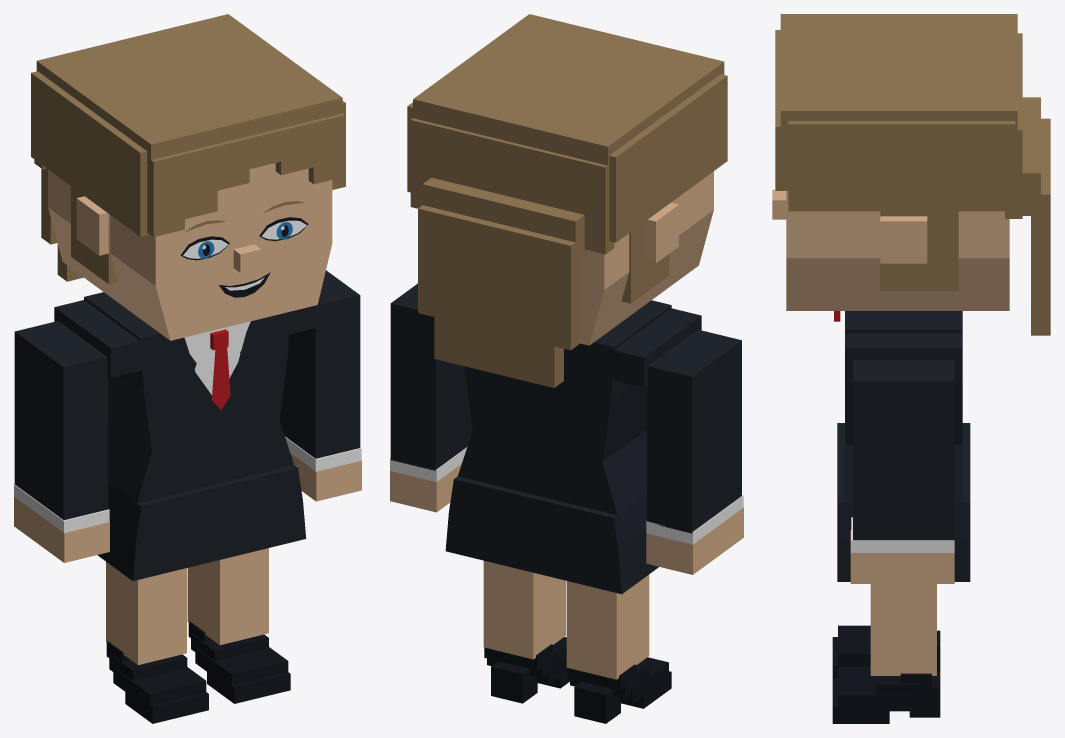
Rendered from female_long.glb.
The picture shows the model from 3 angles, left to right: view 1: azimuth 30°, elevation 25°; view 2: azimuth 150°, elevation 25°; view 3: azimuth 270°, elevation 25°; orthographic projection. The views are drawn at different scales.
Visible parts, largest first — view 1: char_hair_visual, char_torso_visual, char_head_visual, char_arm_negx_visual, char_arm_posx_visual, char_leg_negx_visual, char_leg_posx_visual, char_hand_negx_visual, char_hand_posx_visual, char_eye_posx_visual, char_eye_negx_visual; view 2: char_hair_visual, char_torso_visual, char_arm_negx_visual, char_arm_posx_visual, char_leg_negx_visual, char_leg_posx_visual, char_head_visual, char_hand_negx_visual, char_hand_posx_visual; view 3: char_hair_visual, char_arm_posx_visual, char_head_visual, char_torso_visual, char_leg_posx_visual, char_hand_posx_visual, char_leg_negx_visual.
Part boxes in pixels (x1,y1,x2,y2): char_hair_visual: (31, 14, 345, 284); char_torso_visual: (54, 292, 320, 580); char_head_visual: (48, 163, 332, 340); char_arm_negx_visual: (14, 321, 109, 532); char_arm_posx_visual: (279, 270, 361, 471); char_leg_negx_visual: (106, 562, 208, 723); char_leg_posx_visual: (187, 548, 290, 703); char_hand_negx_visual: (14, 497, 109, 562); char_hand_posx_visual: (290, 453, 361, 501); char_eye_posx_visual: (259, 217, 308, 241); char_eye_negx_visual: (180, 236, 229, 260); char_hair_visual: (407, 14, 727, 387); char_torso_visual: (431, 300, 701, 594); char_arm_negx_visual: (646, 329, 743, 544); char_arm_posx_visual: (390, 283, 472, 481); char_leg_negx_visual: (566, 574, 671, 723); char_leg_posx_visual: (483, 560, 569, 703); char_head_visual: (580, 171, 713, 345); char_hand_negx_visual: (646, 507, 743, 574); char_hand_posx_visual: (390, 464, 461, 512); char_hair_visual: (775, 14, 1050, 335); char_arm_posx_visual: (851, 359, 954, 552); char_head_visual: (772, 189, 1009, 310); char_torso_visual: (834, 311, 970, 581); char_leg_posx_visual: (832, 584, 940, 723); char_hand_posx_visual: (850, 530, 954, 583); char_leg_negx_visual: (832, 625, 940, 678).
Bounding box in the file's own units: 0.91 × 1.77 × 0.711.
